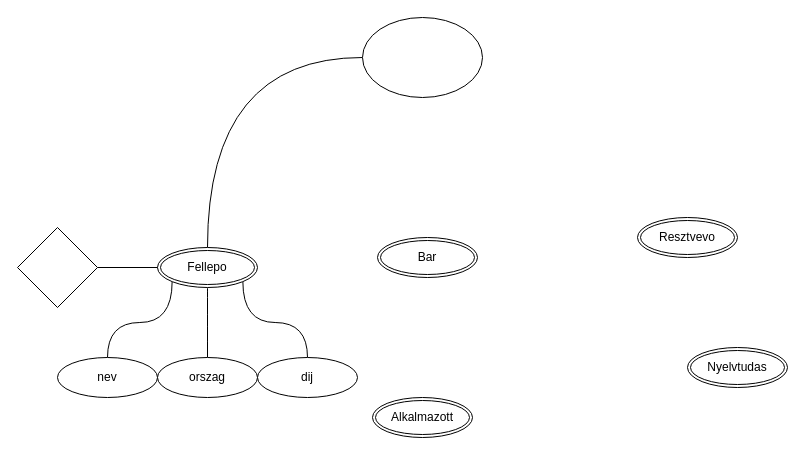
This 805x455 diagram has some shape labels left out. The centre of each missing label's shape, as x and y in pixels:
FEL_ID: (57,267)
IIJU0ZFesztival: (422,57)
